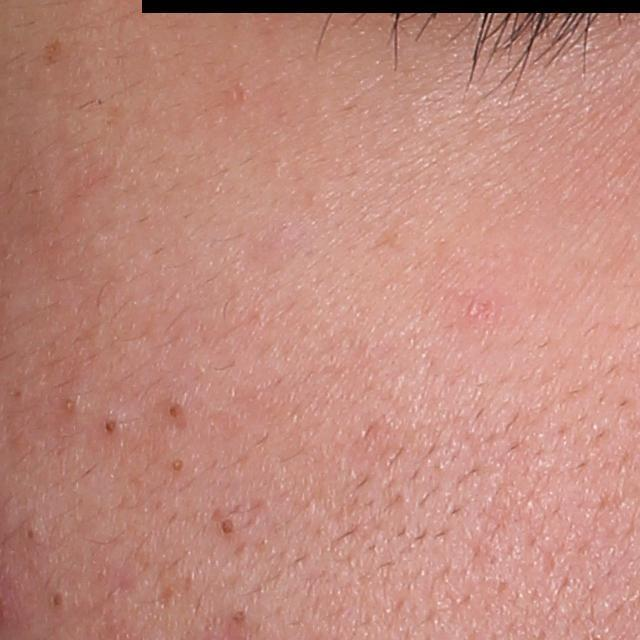comedo: (44, 588, 66, 614), (97, 416, 122, 438), (17, 523, 42, 545), (163, 400, 183, 425), (57, 395, 77, 416), (217, 516, 236, 537), (167, 457, 186, 475)
melasma: (35, 34, 68, 71)
